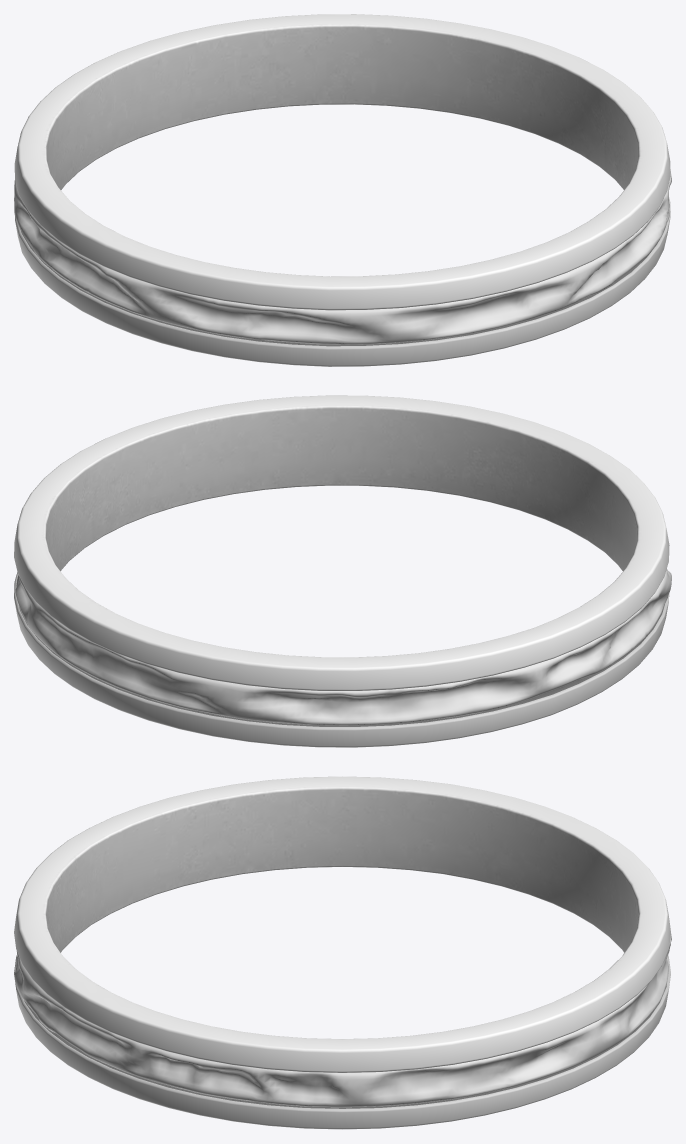
Rendered from Beheyt Artisanaal_174_V1.8.glb.
3 renders of one model, top to bottom at view 1: azimuth 30°, elevation 25°; view 2: azimuth 150°, elevation 25°; view 3: azimuth 270°, elevation 25°, orthographic.
Parts seen in each view (by area): view 1: Circle002, Object002_Low; view 2: Circle002, Object002_Low; view 3: Circle002, Object002_Low.
Boxes of the visible parts, x1,y1,x2,y2 form: Circle002: [14, 14, 670, 366]; Object002_Low: [14, 169, 671, 344]; Circle002: [14, 395, 669, 747]; Object002_Low: [15, 569, 671, 725]; Circle002: [14, 776, 670, 1129]; Object002_Low: [14, 934, 671, 1107].
Size of the model in its own units: 2.62 by 0.35 by 2.61.
Materials: 2 (1 with a texture image).
